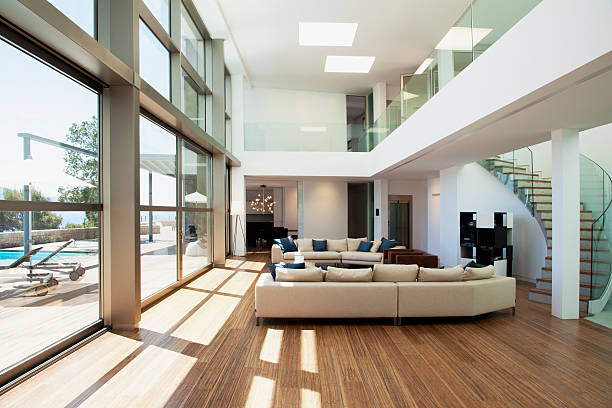floor lamp: (226, 197, 251, 257)
sofa: (252, 265, 520, 329), (270, 233, 404, 265)
